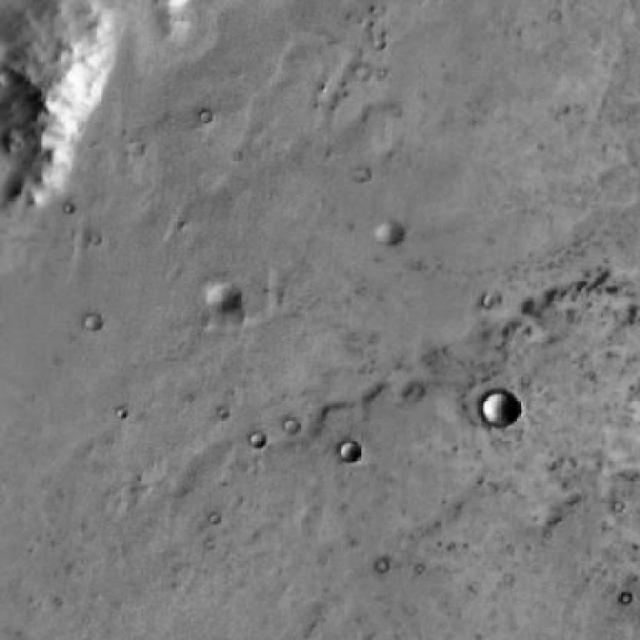crater: (0, 70, 40, 208), (200, 278, 242, 317), (481, 391, 516, 422), (369, 221, 398, 247), (339, 442, 361, 460), (81, 312, 101, 328)
